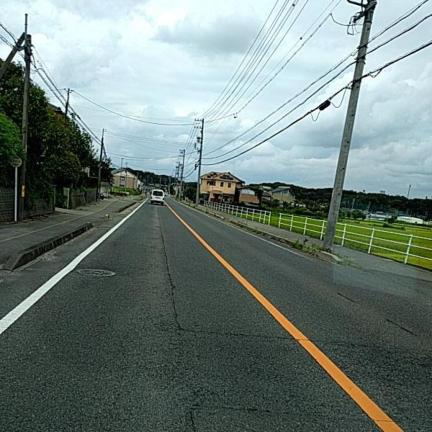Road: (0, 200, 431, 431)
